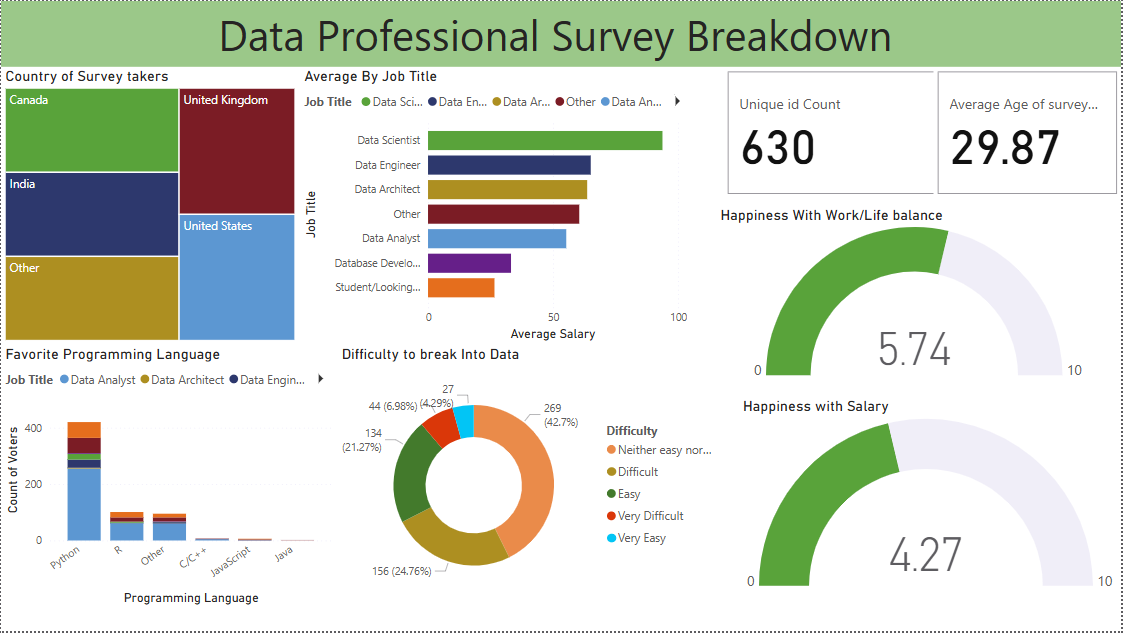

The dashboard page shown, as its layout file describes it:
{"tool":"powerbi","page":{"name":"Page 1","canvas":[1280,720],"ordinal":0},"visuals":[{"type":"textbox","box":[0,0,1280,75],"z":0},{"type":"cardVisual","fields":{"Data":["Data Professional Survey.Unique id Count"]},"box":[826.2,76.2,247.5,150],"z":1000},{"type":"cardVisual","fields":{"Data":["Avg(Data Professional Survey.Q10 - Current Age)"]},"box":[1065,75,215,150],"z":2000},{"type":"barChart","title":"Average By Job Title ","fields":{"Category":["Data Professional Survey.Q1 - Which Title Best Fits your Current Role?.1"],"Y":["Avg(Data Professional Survey.Average Salary)"],"Series":["Data Professional Survey.Q1 - Which Title Best Fits your Current Role?.1"]},"box":[341.2,75,447.5,317.5],"z":3000},{"type":"columnChart","title":"Favorite Programming Language ","fields":{"Category":["Data Professional Survey.Q5 - Favorite Programming Language.1"],"Y":["CountNonNull(Data Professional Survey.Unique ID)"],"Series":["Data Professional Survey.Q1 - Which Title Best Fits your Current Role?.1"]},"box":[0,392.5,383.8,302.5],"z":4000},{"type":"treemap","title":"Country of Survey takers ","fields":{"Group":["Data Professional Survey.Q11 - Which Country do you live in?.1"],"Values":["Count(Data Professional Survey.Q11 - Which Country do you live in?.1)"]},"box":[0,75,341.2,317.5],"z":5000},{"type":"gauge","title":"Happiness With Work/Life balance ","fields":{"Y":["Avg(Data Professional Survey.Q6 - How Happy are you in your Current Position with the following? (Work/Life Balance))"],"MinValue":["Min(Data Professional Survey.Q6 - How Happy are you in your Current Position with the following? (Work/Life Balance))1"],"MaxValue":["Max(Data Professional Survey.Q6 - How Happy are you in your Current Position with the following? (Work/Life Balance))2"]},"box":[817.5,233.8,462.5,203.8],"z":6000},{"type":"gauge","title":"Happiness with Salary ","fields":{"Y":["Avg(Data Professional Survey.Q6 - How Happy are you in your Current Position with the following? (Salary))"],"MinValue":["Min(Data Professional Survey.Q6 - How Happy are you in your Current Position with the following? (Salary))"],"MaxValue":["Max(Data Professional Survey.Q6 - How Happy are you in your Current Position with the following? (Salary))"]},"box":[842.5,452.5,437.5,226.2],"z":7000},{"type":"donutChart","title":"Difficulty to break Into Data ","fields":{"Category":["Data Professional Survey.Q7 - How difficult was it for you to break into Data?"],"Y":["CountNonNull(Data Professional Survey.Q7 - How difficult was it for you to break into Data?)"]},"box":[383.8,392.5,442.5,302.5],"z":8000}]}

Visuals, with their boxes in screenshot pixels (x1, y1, x2, y2), scaled from the page's 1280x720 canvas onto the 1123x635 screenshot:
textbox: (x1=0, y1=0, x2=1122, y2=66)
cardVisual - Data Professional Survey.Unique id Count: (x1=725, y1=67, x2=942, y2=199)
cardVisual - Avg(Data Professional Survey.Q10 - Current Age): (x1=934, y1=66, x2=1122, y2=198)
"Average By Job Title " barChart: (x1=299, y1=66, x2=692, y2=346)
"Favorite Programming Language " columnChart: (x1=0, y1=346, x2=337, y2=613)
"Country of Survey takers " treemap: (x1=0, y1=66, x2=299, y2=346)
"Happiness With Work/Life balance " gauge: (x1=717, y1=206, x2=1122, y2=386)
"Happiness with Salary " gauge: (x1=739, y1=399, x2=1122, y2=599)
"Difficulty to break Into Data " donutChart: (x1=337, y1=346, x2=725, y2=613)
